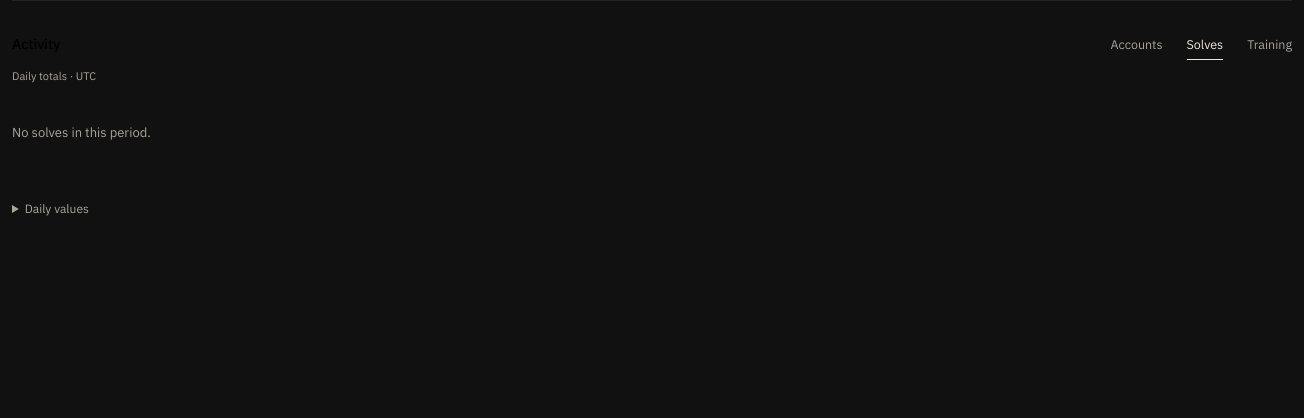
Scenario: keeps exact values when the selected series is empty and distinguishes years
Later steps or results of the test are not shown.
expect the text "No solves in this period." is shown: met, box [12,124,151,141]
Click the radio button labelled "Accounts". click: [1137, 44]
box: [1110,25,1163,63]
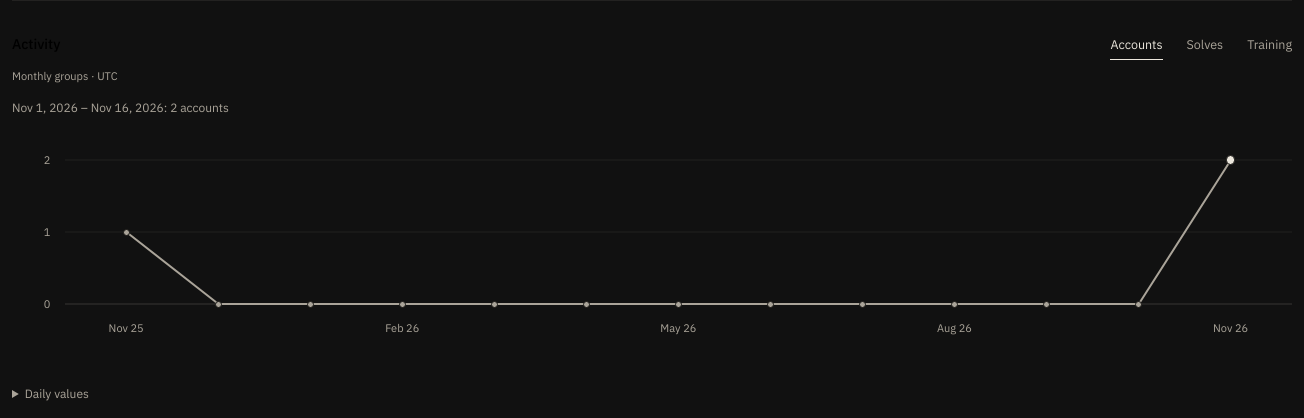
Focus the button named "Nov 1, 2025 – Nov 30, 2025: 1 accounts". click: [126, 232]
box: [114,220,138,244]
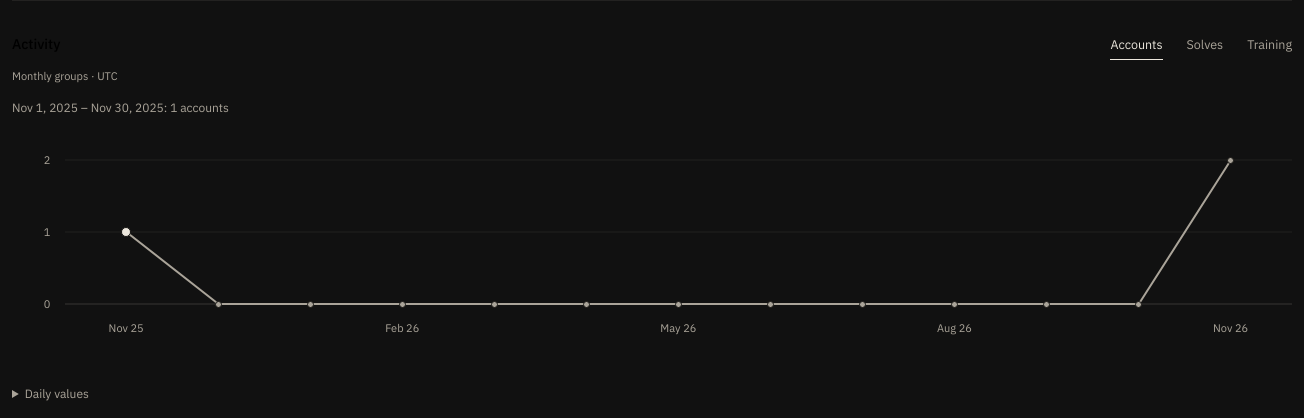
expect the text "Nov 1, 2025 – Nov 30, 2025: 1 accounts" is shown: met, box [12,100,229,115]
Press End in the button named "Nov 1, 2025 – Nov 30, 2025: 1 accounts", box [114,220,138,244]
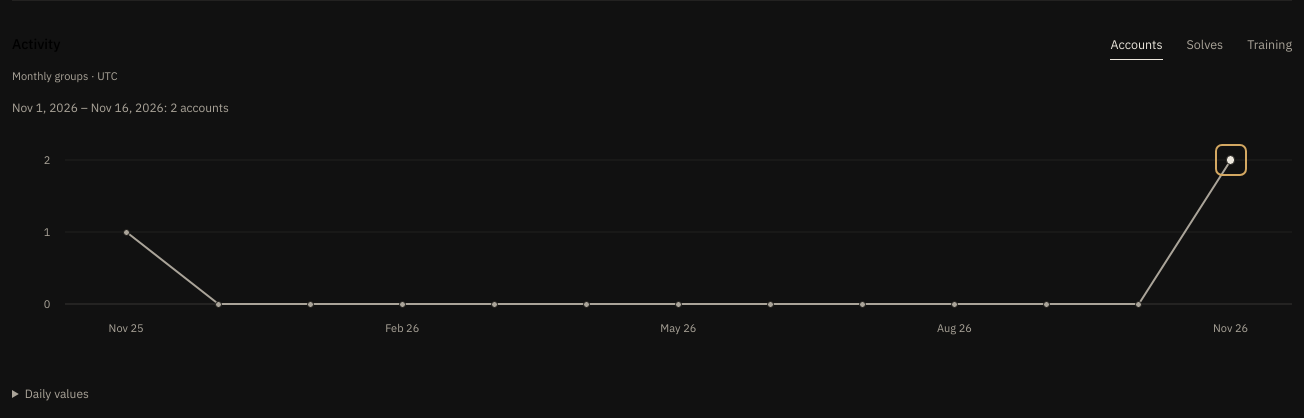
expect the text "Nov 1, 2026 – Nov 16, 2026: 2 accounts" is shown: met, box [12,100,229,115]
